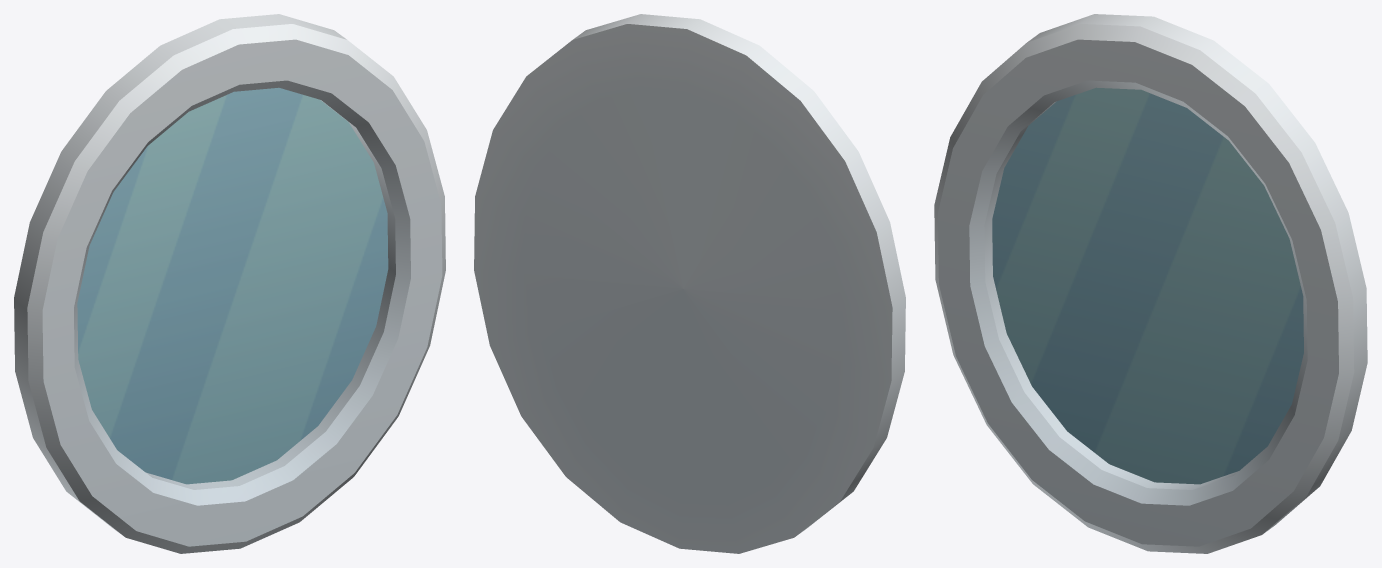
File: mirror.glb
3 views of the same model, side by side, from view 1: azimuth 30°, elevation 25°; view 2: azimuth 150°, elevation 25°; view 3: azimuth 330°, elevation 25° (orthographic).
Parts seen in each view (by area): view 1: mirror; view 2: mirror; view 3: mirror.
Boxes of the visible parts, box(x1,y1,x2,y2) form: mirror: box(14, 14, 445, 553); mirror: box(474, 14, 905, 553); mirror: box(934, 14, 1367, 553).
Bounding box in the file's own units: 1.26 × 1.5 × 0.1.
Materials: 1 (1 with a texture image).
